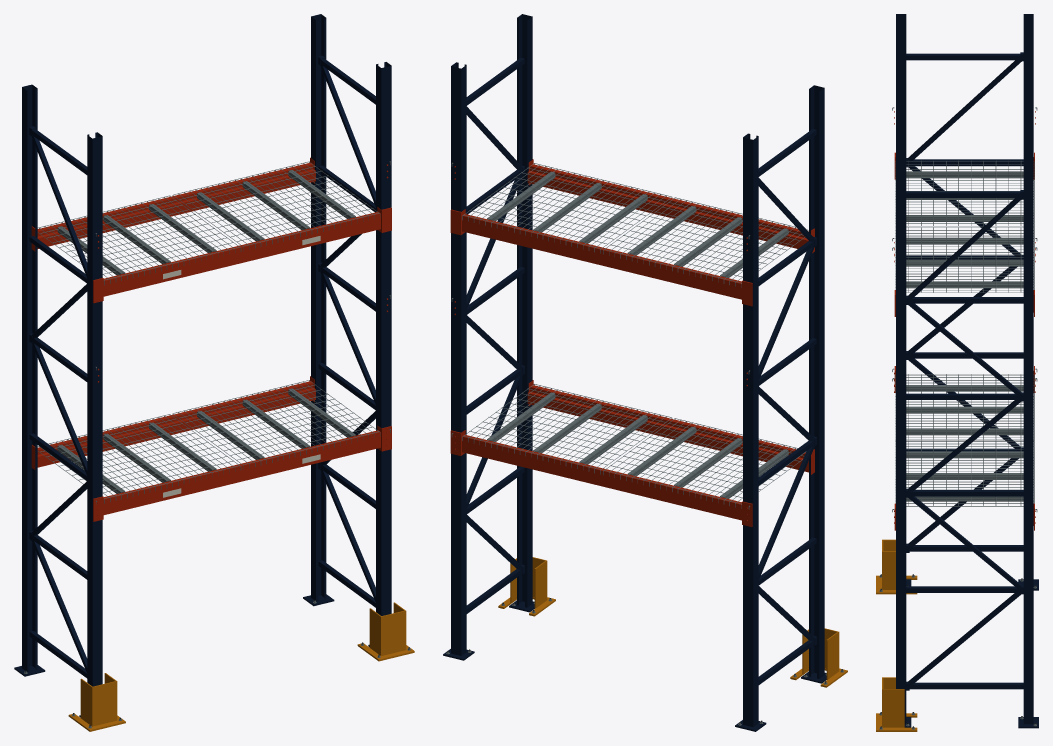
File: forklift-pallet-rack-lods.fbx
The picture shows the model from 3 angles, left to right: view 1: azimuth 30°, elevation 25°; view 2: azimuth 150°, elevation 25°; view 3: azimuth 270°, elevation 25°; orthographic projection. The views are drawn at different scales.
Visible parts, largest first — view 1: Rack_LOD0; view 2: Rack_LOD0; view 3: Rack_LOD0.
Boxes of the visible parts, x1=… form: Rack_LOD0: x1=14, y1=14, x2=414, y2=731; Rack_LOD0: x1=443, y1=14, x2=847, y2=731; Rack_LOD0: x1=876, y1=14, x2=1038, y2=731.
Size of what is drawn, in the model's own units: 284 by 488 by 126.
